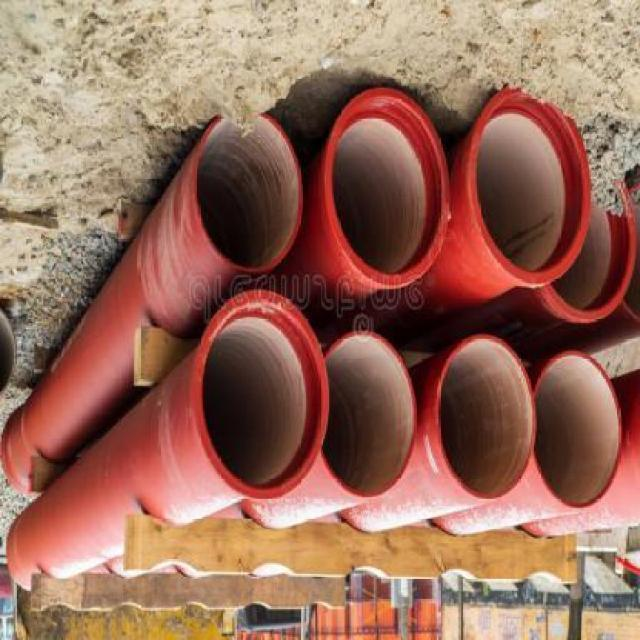pipe: (193, 291, 330, 500), (325, 85, 450, 287), (470, 88, 593, 285), (194, 111, 303, 273), (437, 334, 537, 500), (321, 331, 417, 497), (532, 351, 623, 511), (545, 182, 639, 324)
